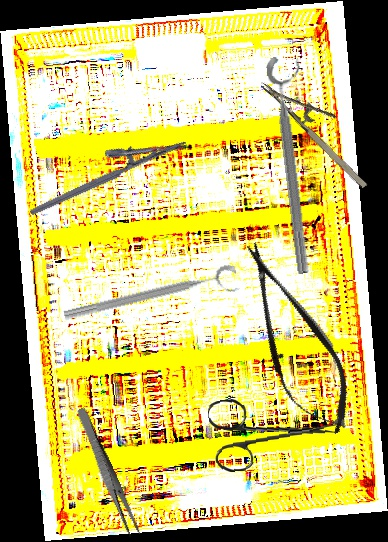Dressing Forceps: (72, 406, 142, 539)
Fixation Ring: (265, 54, 327, 275), (61, 263, 242, 335)
Iris Scissors: (207, 390, 339, 474)
Micro Scissor: (221, 230, 368, 447)
Needle Holder: (259, 61, 385, 192), (20, 119, 188, 217)
